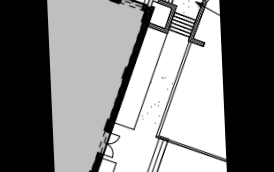double door: (96, 6, 168, 136), (98, 131, 123, 160), (121, 0, 149, 8)
wall: (152, 132, 227, 170), (186, 0, 213, 44), (65, 151, 111, 172), (47, 0, 115, 13), (164, 5, 181, 38), (148, 21, 168, 36), (187, 37, 206, 50), (158, 0, 178, 8), (107, 0, 131, 6), (203, 0, 219, 3)
